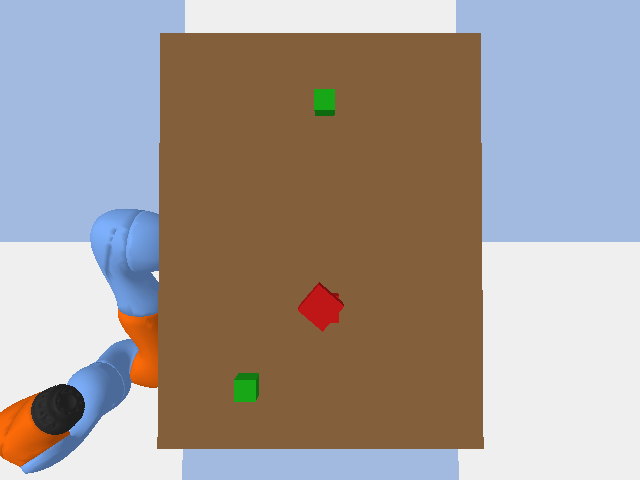green_obj: (234, 373, 258, 401), (314, 89, 334, 115)
red_obj: (298, 282, 343, 331), (331, 293, 338, 322)
